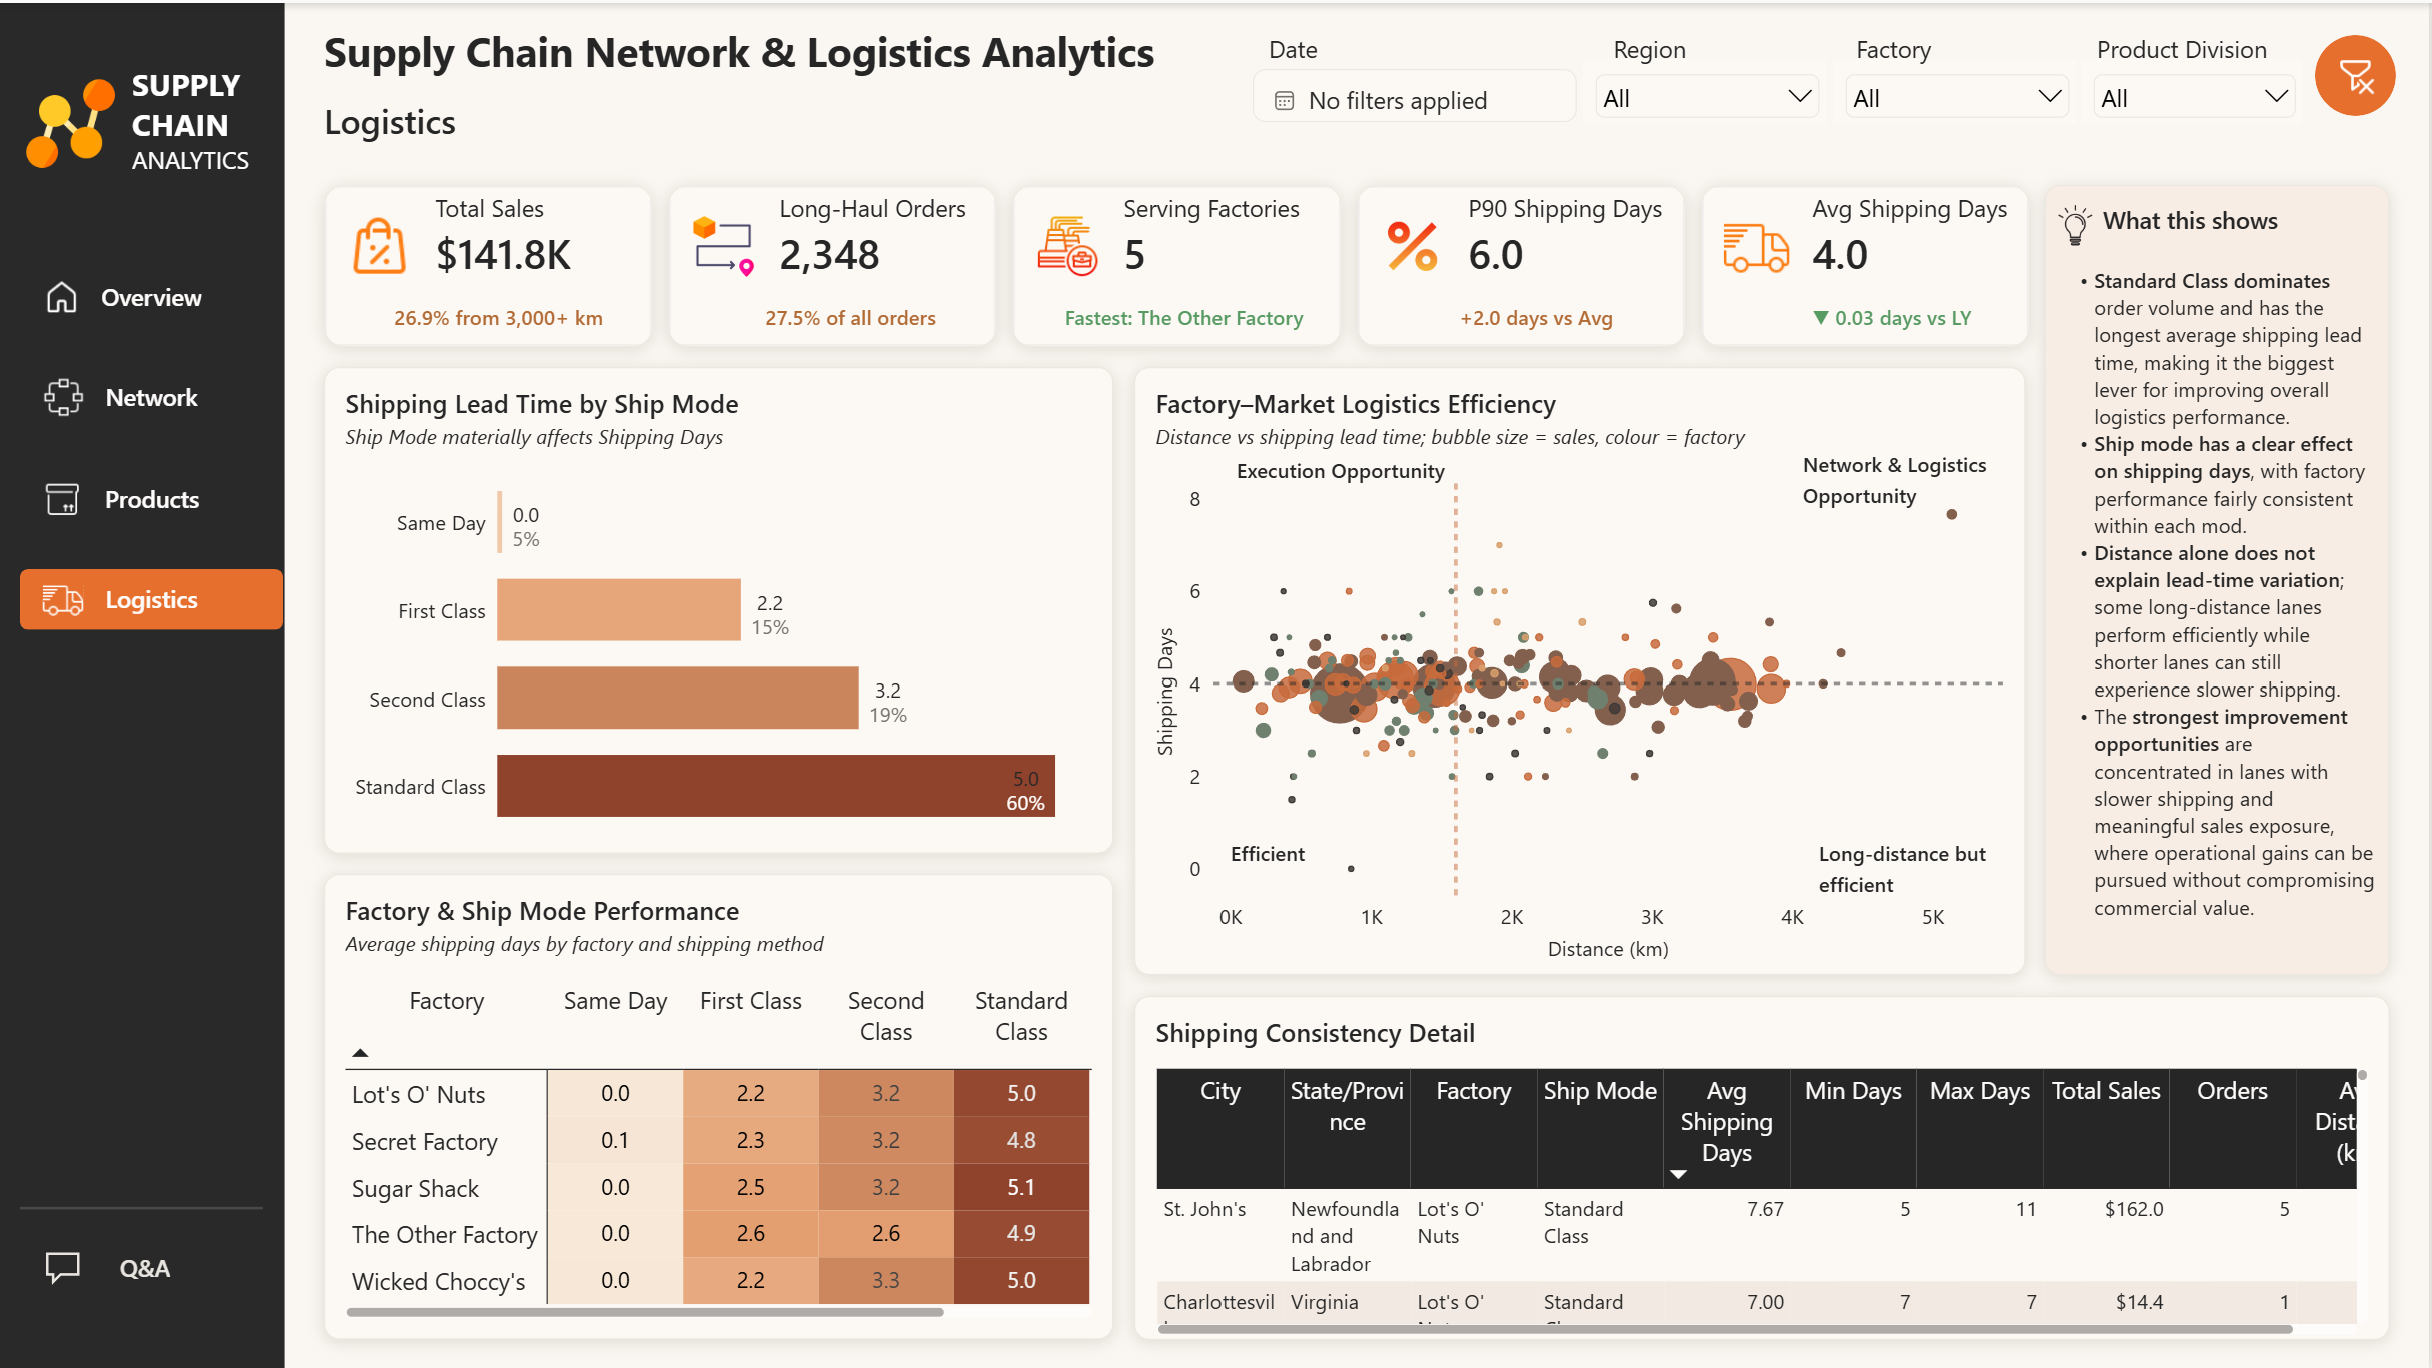

This screenshot's page, from the dashboard's own definition file:
{"tool":"powerbi","page":{"name":"Logistics","canvas":[1920,1080],"ordinal":3},"visuals":[{"type":"shape","box":[0,0,225,1080],"z":0},{"type":"group","id":"g1","title":"Group 3","box":[1616,144,272,624],"z":0,"group":"g6"},{"type":"textbox","box":[105,48,120,96],"z":1000},{"type":"textbox","box":[1616,144,272,624],"z":1500,"group":"g1"},{"type":"textbox","box":[256,16,672,64],"z":2000},{"type":"textbox","box":[256,74,256,48],"z":3000},{"type":"image","box":[1616,160,48,32],"z":3000,"group":"g6"},{"type":"slicer","title":"Date","fields":{"Values":["DimDate.Date"]},"box":[990,51,256,42],"z":4000,"group":"g2"},{"type":"image","box":[16,56,80,80],"z":4000},{"type":"slicer","title":"Date","fields":{"Values":["vw_FactSales.Country_Region","vw_FactSales.State_Province"]},"box":[1251,44,192,52],"z":5000,"group":"g3"},{"type":"slicer","title":"Date","fields":{"Values":["vw_DimFactory.Factory"]},"box":[1448,44,192,52],"z":5000,"group":"g4"},{"type":"slicer","title":"Date","fields":{"Values":["vw_DimProduct.Division"]},"box":[1645,44,175,52],"z":5000,"group":"g5"},{"type":"actionButton","box":[16,208,208,48],"z":5000},{"type":"actionButton","box":[16,288,208,48],"z":6000},{"type":"actionButton","box":[16,368,209,48],"z":7000},{"type":"actionButton","box":[16,448,208,48],"z":8000},{"type":"group","id":"g2","title":"Group 1","box":[990,23,256,70],"z":9000},{"type":"actionButton","box":[32,976,115,48],"z":10000},{"type":"shape","box":[16.2,944,192,16],"z":11000},{"type":"group","id":"g3","title":"Group 2","box":[1251,23,192,73],"z":12000},{"type":"group","id":"g4","title":"Group 2","box":[1448,23,192,73],"z":13000},{"type":"group","id":"g5","title":"Group 2","box":[1645,23,175,73],"z":14000},{"type":"textbox","box":[990,23,64,32],"z":14001,"group":"g2"},{"type":"actionButton","box":[1830,25,64,64],"z":15000},{"type":"textbox","box":[1256,23,96,30.4],"z":16000,"group":"g3"},{"type":"textbox","box":[1448,23,96,30.4],"z":16000,"group":"g4"},{"type":"textbox","box":[1645,23,160,32],"z":16000,"group":"g5"},{"type":"cardVisual","fields":{"Data":["_Measures.Total Sales"]},"box":[256,144,260,128],"z":16000},{"type":"cardVisual","fields":{"Data":["_Measures.P90 Shipping Days"]},"box":[1072,144,260,128],"z":17000},{"type":"cardVisual","fields":{"Data":["_Measures.Long-Distance Orders"]},"box":[528,144,260,128],"z":18000},{"type":"cardVisual","fields":{"Data":["_Measures.Serving Factories"]},"box":[800,144,260,128],"z":19000},{"type":"cardVisual","fields":{"Data":["_Measures.Avg Shipping Days"]},"box":[1344,144,260,128],"z":20000},{"type":"group","id":"g6","title":"Group 4","box":[1616,144,272,624],"z":21000},{"type":"clusteredBarChart","title":"Shipping Lead Time by Ship Mode","fields":{"Category":["vw_FactSales.Ship_Mode"],"Y":["_Measures.Avg Shipping Days"]},"box":[256,288,624,384],"z":22000},{"type":"pivotTable","title":"Factory & Ship Mode Performance","fields":{"Rows":["vw_DimFactory.Factory"],"Columns":["vw_FactSales.Ship_Mode"],"Values":["Avg(vw_FactSales.Shipping_Days)"]},"box":[256,688,624,368],"z":23000},{"type":"scatterChart","title":"Factory–Market Logistics Efficiency","fields":{"X":["vw_FactSales.Actual Supply Distance KM"],"Y":["_Measures.Avg Shipping Days"],"Size":["Sum(vw_FactSales.Sales)"],"Series":["vw_DimFactory.Factory"],"Category":["vw_FactSales.State_Province"]},"box":[896,288,704,480],"z":24000,"group":"g7"},{"type":"tableEx","title":"Shipping Consistency Detail","fields":{"Values":["vw_FactSales.City","vw_FactSales.State_Province","vw_DimFactory.Factory","vw_FactSales.Ship_Mode","Avg(vw_FactSales.Shipping_Days)","Min(vw_FactSales.Shipping_Days)1","Max(vw_FactSales.Shipping_Days)2","_Measures.Total Sales","vw_FactSales.Order_ID","Avg(vw_FactSales.Actual Supply Distance KM)"]},"box":[896,784,992,272],"z":24000},{"type":"textbox","box":[1424,352,160,50],"z":26000,"group":"g7"},{"type":"textbox","box":[972,658.3,80,27.4],"z":27000,"group":"g7"},{"type":"textbox","box":[1436,658.3,144,49],"z":28000,"group":"g7"},{"type":"textbox","box":[976,356,176,32],"z":28500,"group":"g7"},{"type":"group","id":"g7","title":"Group 5","box":[896,288,704,480],"z":29001}]}

Visuals, with their boxes on the page's 1920x1080 design canvas (x1, y1, x2, y2). These are canvas units, not pixel positions in the 2432x1368 screenshot, which may show the page scaled, cropped or inside an application window:
shape: x1=0, y1=0, x2=225, y2=1080
"Group 3" group: x1=1616, y1=144, x2=1888, y2=768
textbox: x1=105, y1=48, x2=225, y2=144
textbox: x1=1616, y1=144, x2=1888, y2=768
textbox: x1=256, y1=16, x2=928, y2=80
textbox: x1=256, y1=74, x2=512, y2=122
image: x1=1616, y1=160, x2=1664, y2=192
"Date" slicer: x1=990, y1=51, x2=1246, y2=93
image: x1=16, y1=56, x2=96, y2=136
"Date" slicer: x1=1251, y1=44, x2=1443, y2=96
"Date" slicer: x1=1448, y1=44, x2=1640, y2=96
"Date" slicer: x1=1645, y1=44, x2=1820, y2=96
actionButton: x1=16, y1=208, x2=224, y2=256
actionButton: x1=16, y1=288, x2=224, y2=336
actionButton: x1=16, y1=368, x2=225, y2=416
actionButton: x1=16, y1=448, x2=224, y2=496
"Group 1" group: x1=990, y1=23, x2=1246, y2=93
actionButton: x1=32, y1=976, x2=147, y2=1024
shape: x1=16, y1=944, x2=208, y2=960
"Group 2" group: x1=1251, y1=23, x2=1443, y2=96
"Group 2" group: x1=1448, y1=23, x2=1640, y2=96
"Group 2" group: x1=1645, y1=23, x2=1820, y2=96
textbox: x1=990, y1=23, x2=1054, y2=55
actionButton: x1=1830, y1=25, x2=1894, y2=89
textbox: x1=1256, y1=23, x2=1352, y2=53
textbox: x1=1448, y1=23, x2=1544, y2=53
textbox: x1=1645, y1=23, x2=1805, y2=55
cardVisual - _Measures.Total Sales: x1=256, y1=144, x2=516, y2=272
cardVisual - _Measures.P90 Shipping Days: x1=1072, y1=144, x2=1332, y2=272
cardVisual - _Measures.Long-Distance Orders: x1=528, y1=144, x2=788, y2=272
cardVisual - _Measures.Serving Factories: x1=800, y1=144, x2=1060, y2=272
cardVisual - _Measures.Avg Shipping Days: x1=1344, y1=144, x2=1604, y2=272
"Group 4" group: x1=1616, y1=144, x2=1888, y2=768
"Shipping Lead Time by Ship Mode" clusteredBarChart: x1=256, y1=288, x2=880, y2=672
"Factory & Ship Mode Performance" pivotTable: x1=256, y1=688, x2=880, y2=1056
"Factory–Market Logistics Efficiency" scatterChart: x1=896, y1=288, x2=1600, y2=768
"Shipping Consistency Detail" tableEx: x1=896, y1=784, x2=1888, y2=1056
textbox: x1=1424, y1=352, x2=1584, y2=402
textbox: x1=972, y1=658, x2=1052, y2=686
textbox: x1=1436, y1=658, x2=1580, y2=707
textbox: x1=976, y1=356, x2=1152, y2=388
"Group 5" group: x1=896, y1=288, x2=1600, y2=768
